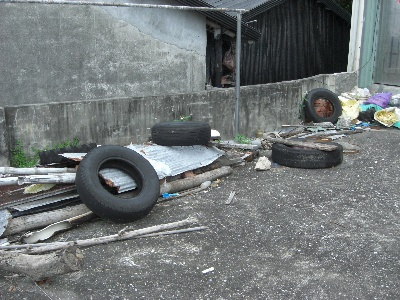plastic_bag: (342, 88, 369, 120), (374, 107, 400, 127), (368, 92, 390, 106)
tire: (76, 144, 160, 223), (271, 138, 342, 169), (150, 121, 211, 147), (303, 87, 342, 124)
